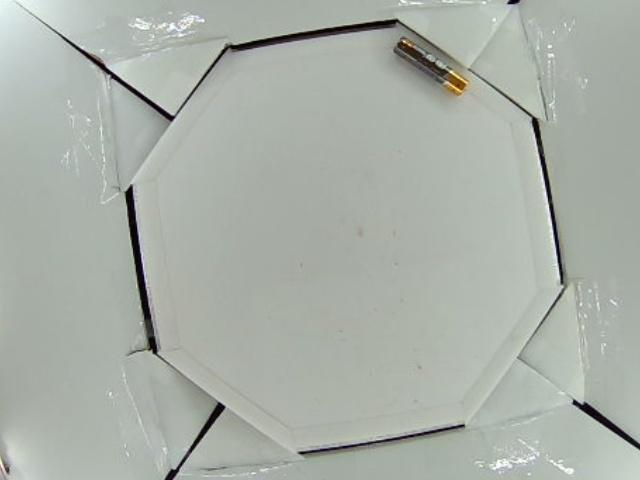Battery: (392, 37, 470, 98)
